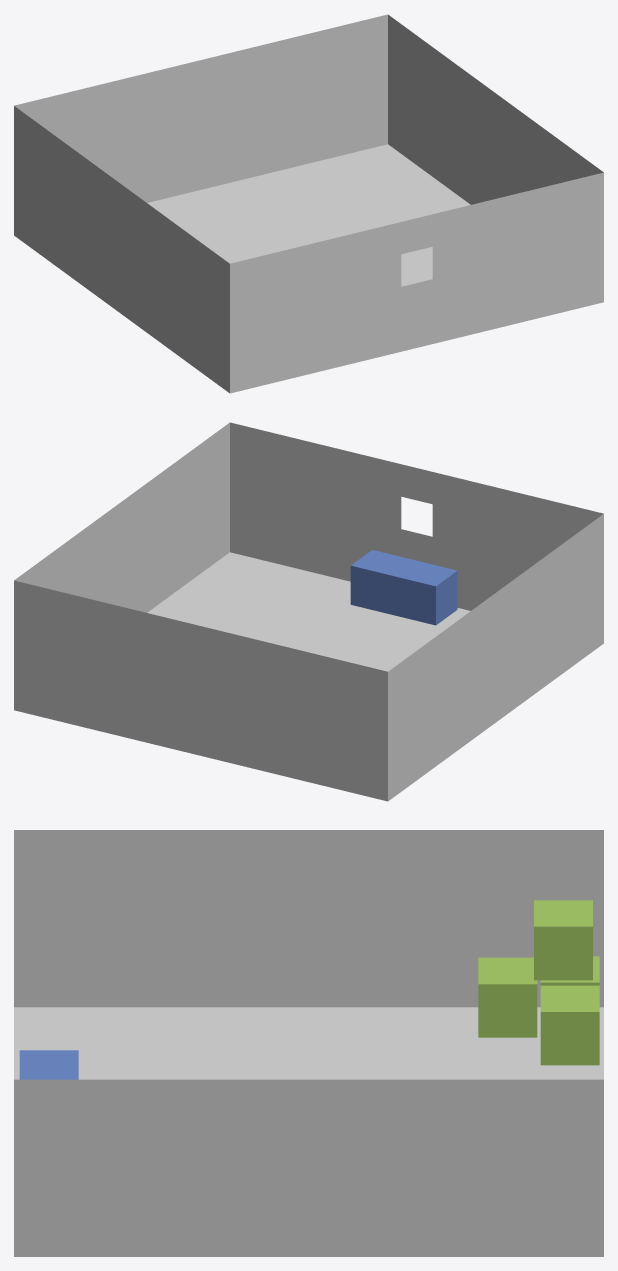
File: house.dae
The picture shows the model from 3 angles, top to bottom: view 1: azimuth 30°, elevation 25°; view 2: azimuth 150°, elevation 25°; view 3: azimuth 270°, elevation 25°; orthographic projection. The views are drawn at different scales.
Parts seen in each view (by area): view 1: Plane; view 2: Plane, Cube; view 3: Plane, Cube_002, Cube_004, Cube_003, Cube.
Boxes of the visible parts, bbox=[...] form: Plane: bbox=[14, 14, 603, 393]; Plane: bbox=[14, 422, 603, 801]; Cube: bbox=[350, 550, 457, 625]; Plane: bbox=[14, 830, 603, 1256]; Cube_002: bbox=[540, 985, 599, 1065]; Cube_004: bbox=[534, 900, 592, 980]; Cube_003: bbox=[478, 957, 537, 1037]; Cube: bbox=[19, 1050, 78, 1079].
Size of the model in its own units: 20 by 20 by 6.63.
